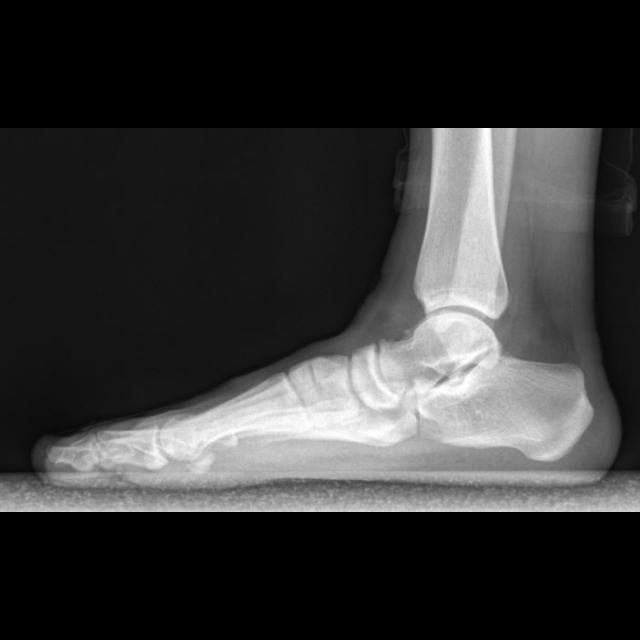a: (419, 349, 595, 462)
b: (349, 344, 401, 414)
c: (160, 374, 315, 461)
